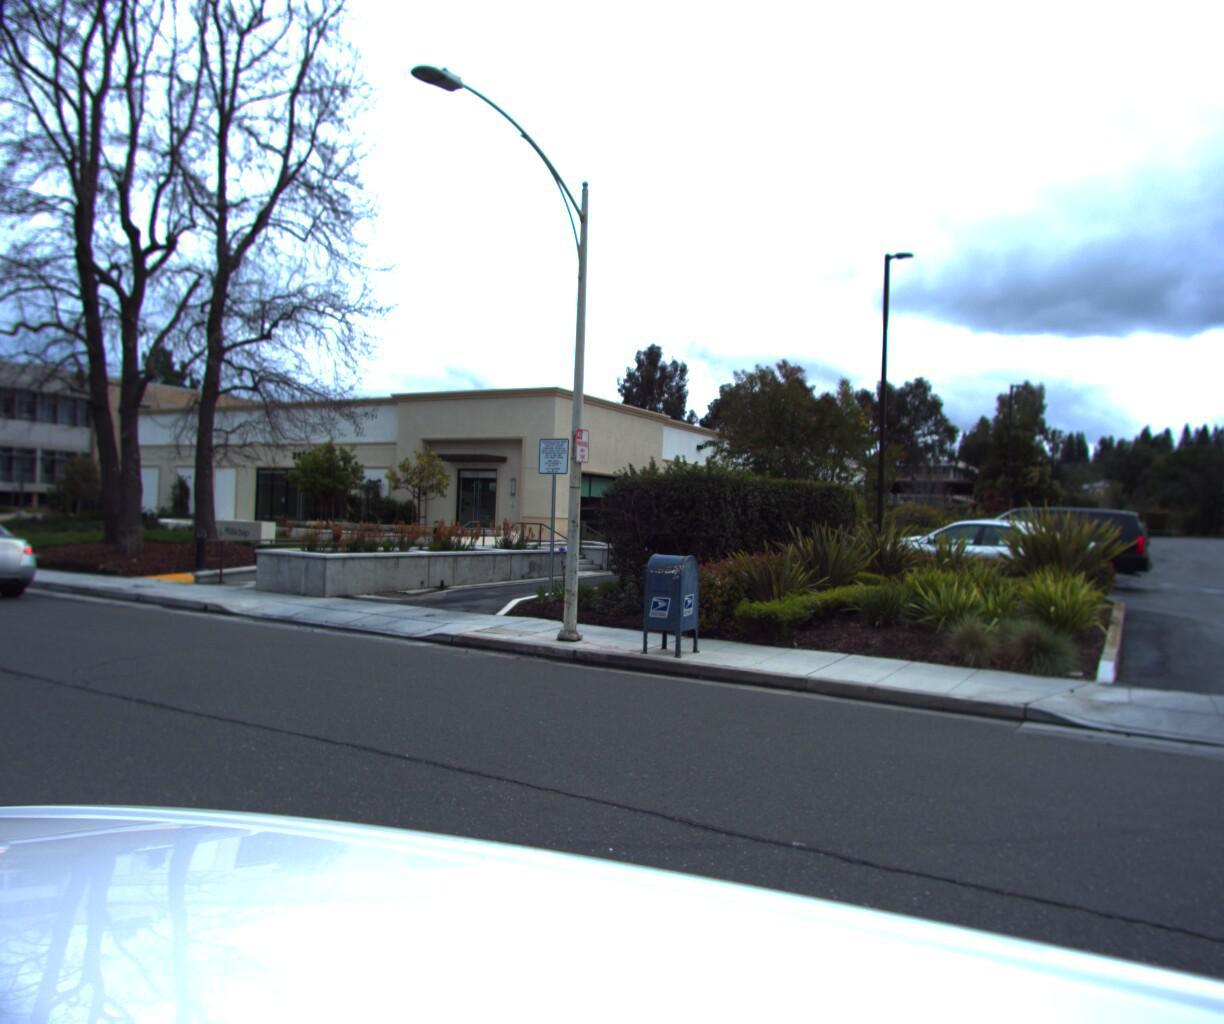car: (857, 484, 1098, 600), (0, 513, 39, 616)
